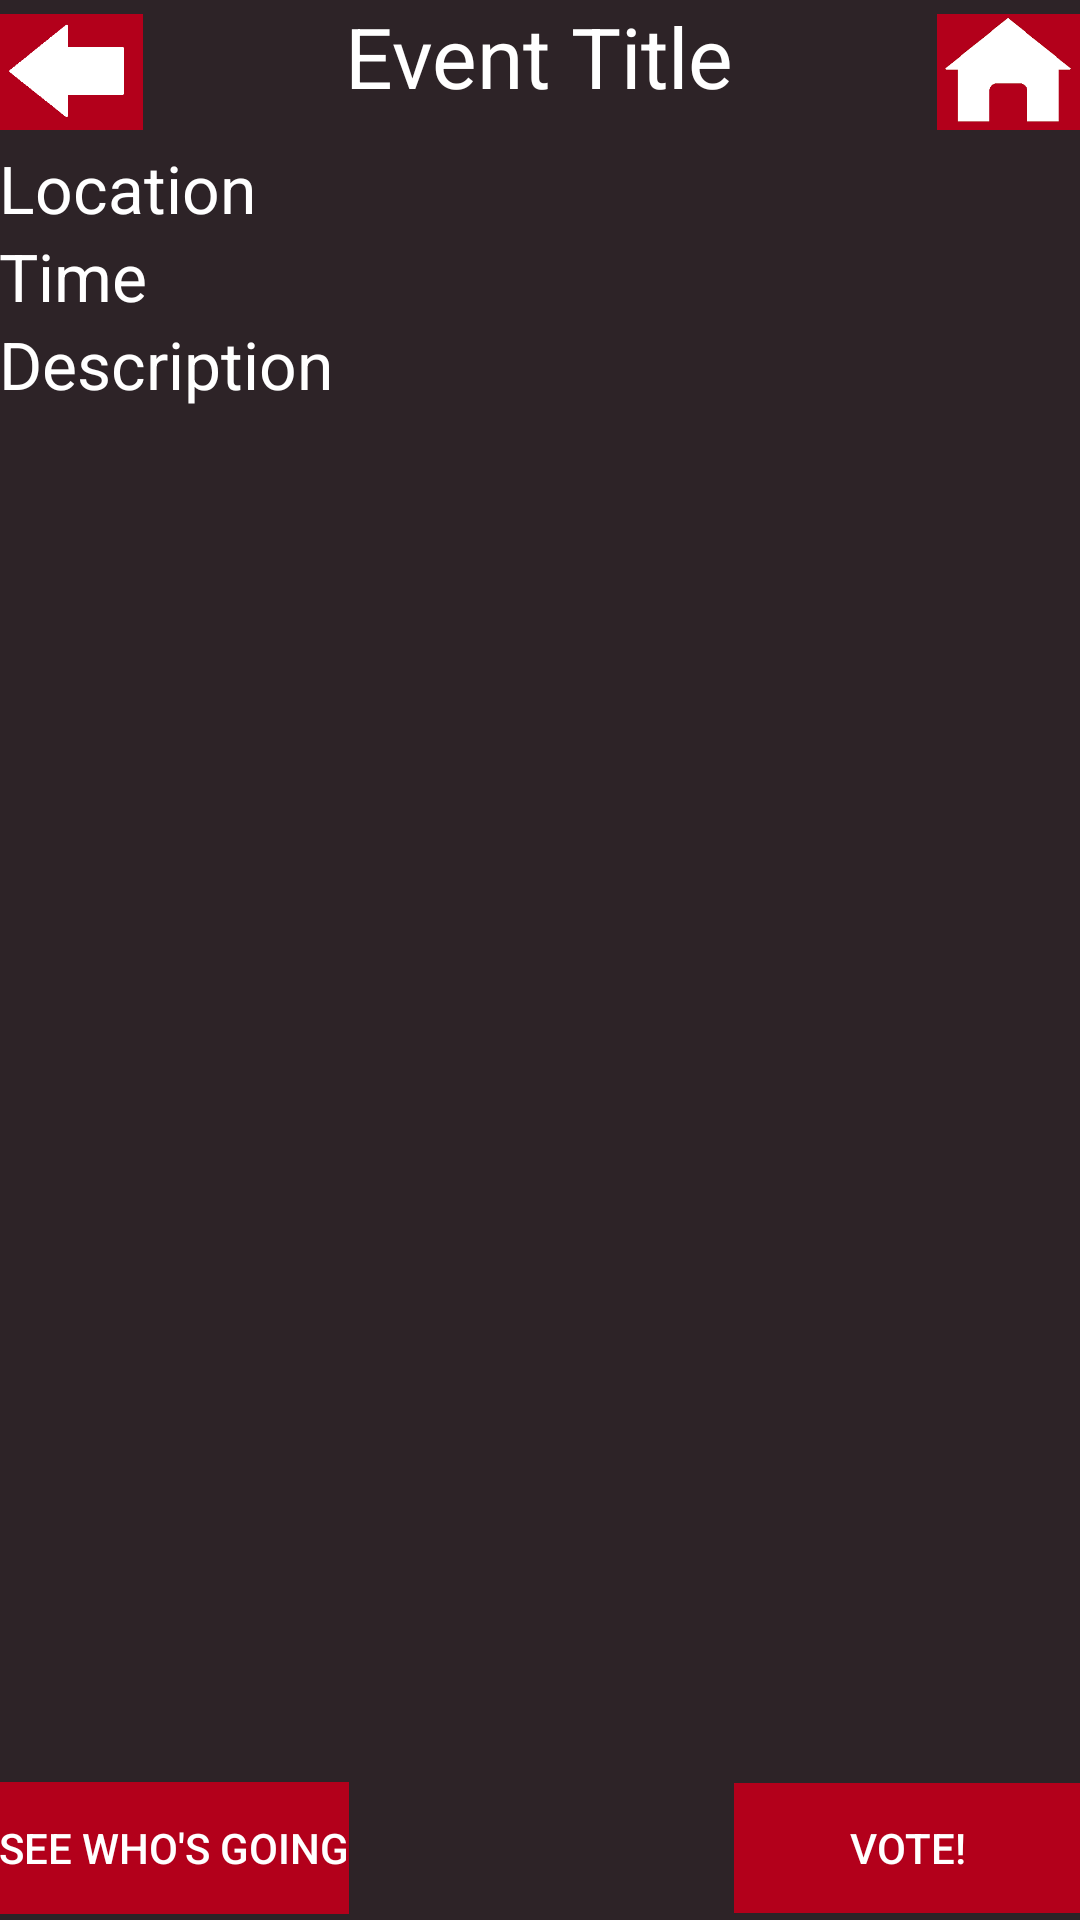

Icon bounding boxes for this 1080×1920 phone screenshot, format (x1, y1, x2, y2):
back: (0, 14, 143, 130)
home: (937, 14, 1080, 130)
